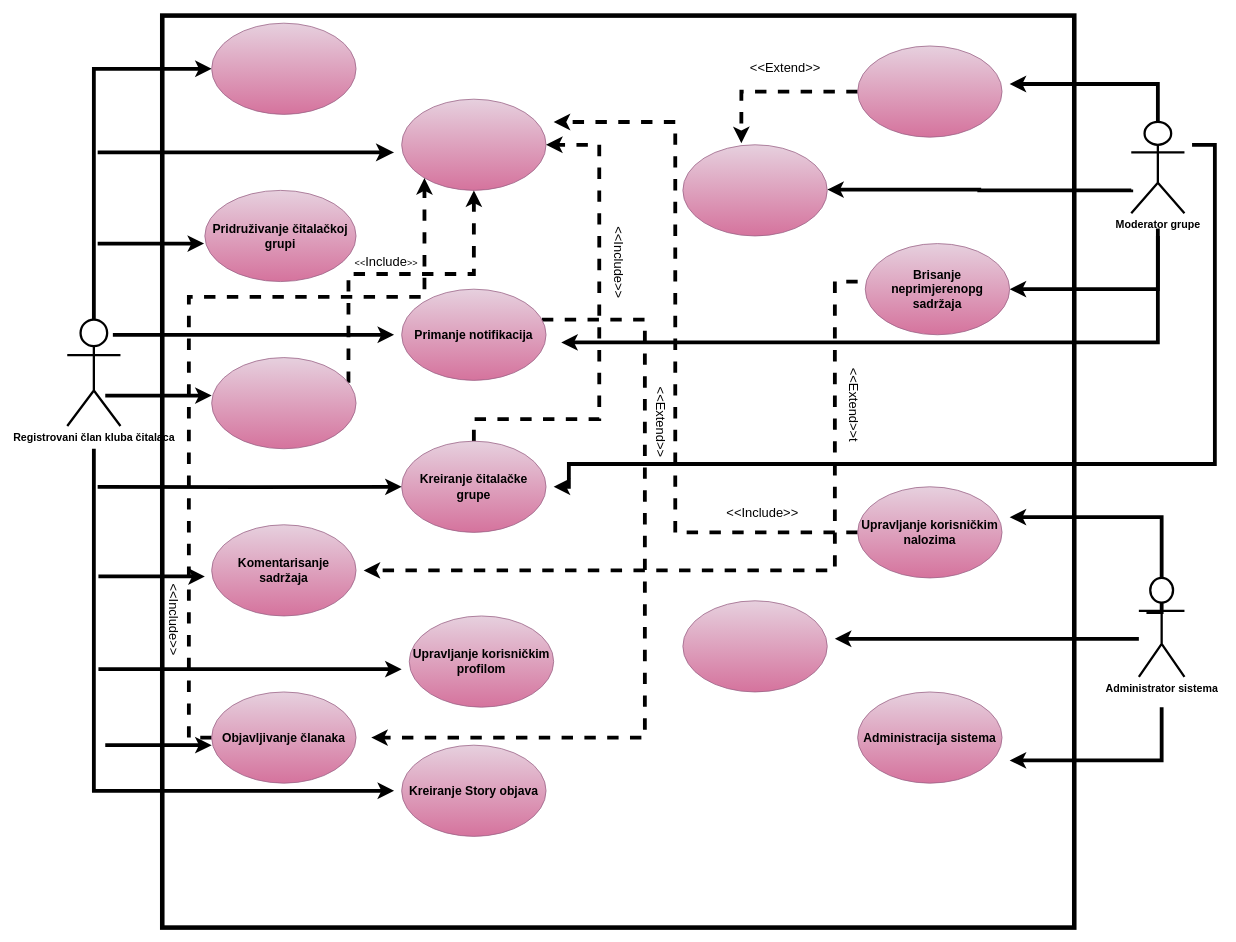
The diagram is 1236 pixels wide and 942 high, and some of its shapes have lost their labels. Here are the shapes that lost their labels. From the top down, the centre of each, then its label:
At point 283,68: "Registrovanje korisnika".
At point 929,91: "Uređivanje čitalačke grupe".
At point 473,144: "Prijavljivanje korisnika".
At point 754,190: "Uklanjanje korisnika iz grupe".
At point 283,403: "Dijeljenje PDF sadržaja".
At point 754,646: "Slanje obavijesti korisnicima".
